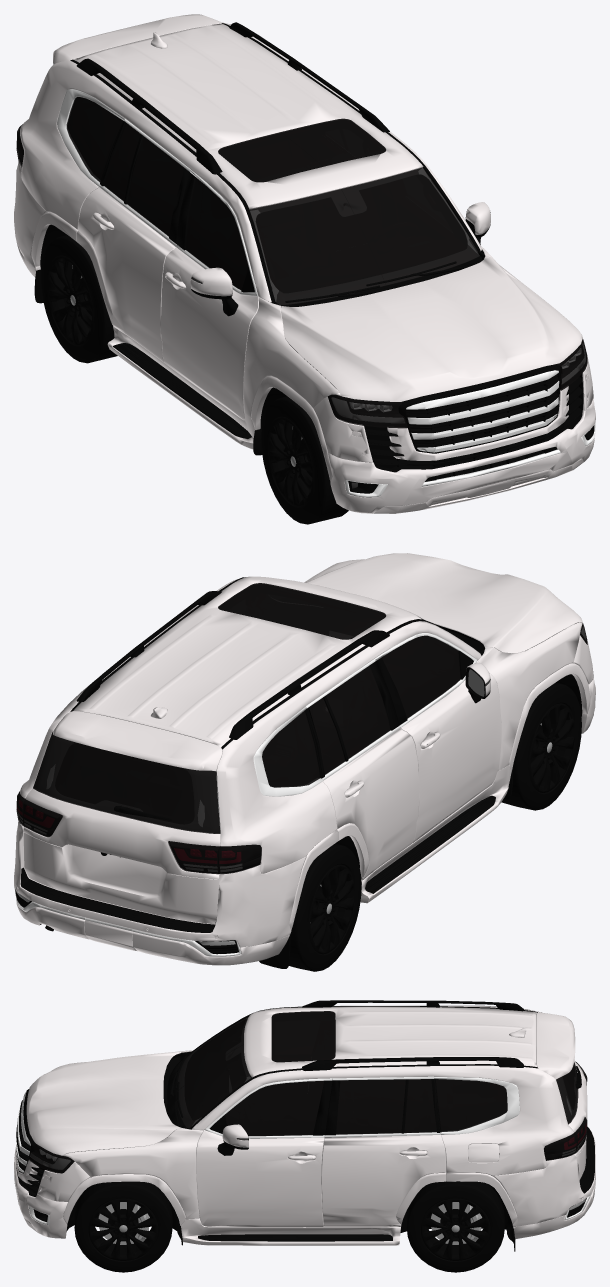
Rendered from landcruiser.glb.
3 views of the same model, one above another, from view 1: azimuth 30°, elevation 25°; view 2: azimuth 150°, elevation 25°; view 3: azimuth 270°, elevation 25° (orthographic). The views are drawn at different scales.
Visible parts, largest first — view 1: Object_0, Object_14; view 2: Object_0, Object_14; view 3: Object_0, Object_14.
Part boxes in pixels (<box>): Object_0: <box>14,14,595,524</box>; Object_14: <box>16,97,591,488</box>; Object_0: <box>14,553,595,971</box>; Object_14: <box>16,583,587,874</box>; Object_0: <box>14,1000,595,1272</box>; Object_14: <box>28,1011,587,1173</box>.
Bounding box in the file's own units: 0.1661 × 0.1404 × 0.3754.
Materials: 4 (4 with a texture image).
